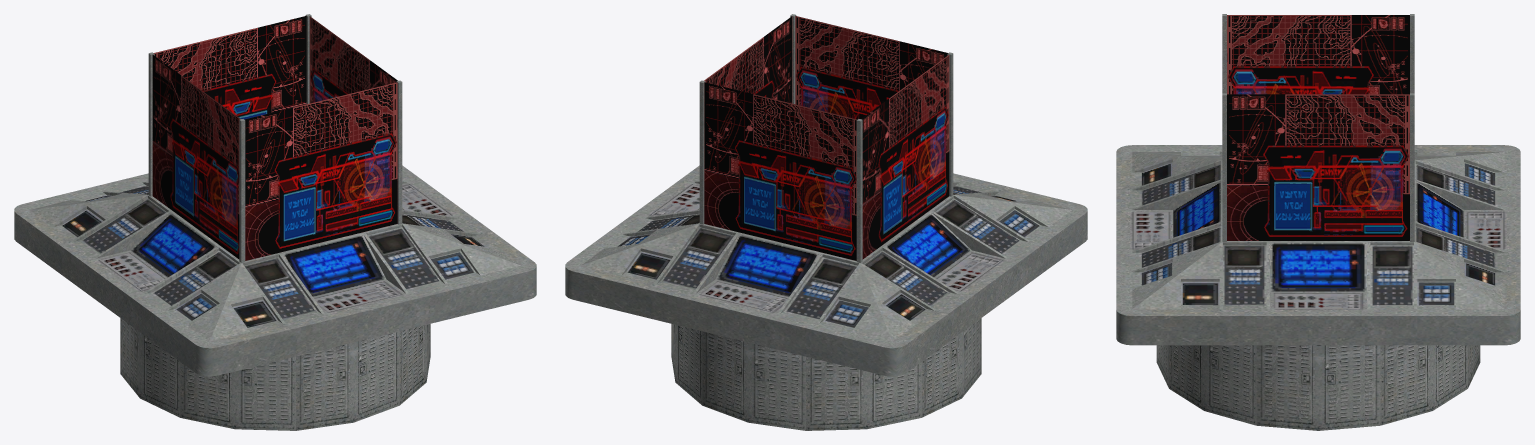
Rendered from frn_tech_console_tableglobe_l0.fbx.
3 renders of one model, left to right at view 1: azimuth 30°, elevation 25°; view 2: azimuth 150°, elevation 25°; view 3: azimuth 270°, elevation 25°, orthographic. The views are drawn at different scales.
Visible parts, largest first — view 1: mesh_node; view 2: mesh_node; view 3: mesh_node.
Boxes of the visible parts, box(x1,y1,x2,y2) form: mesh_node: box(14, 14, 536, 430); mesh_node: box(565, 14, 1087, 430); mesh_node: box(1116, 14, 1520, 430).
Bounding box in the file's own units: 2.5 × 2.1 × 2.5.
